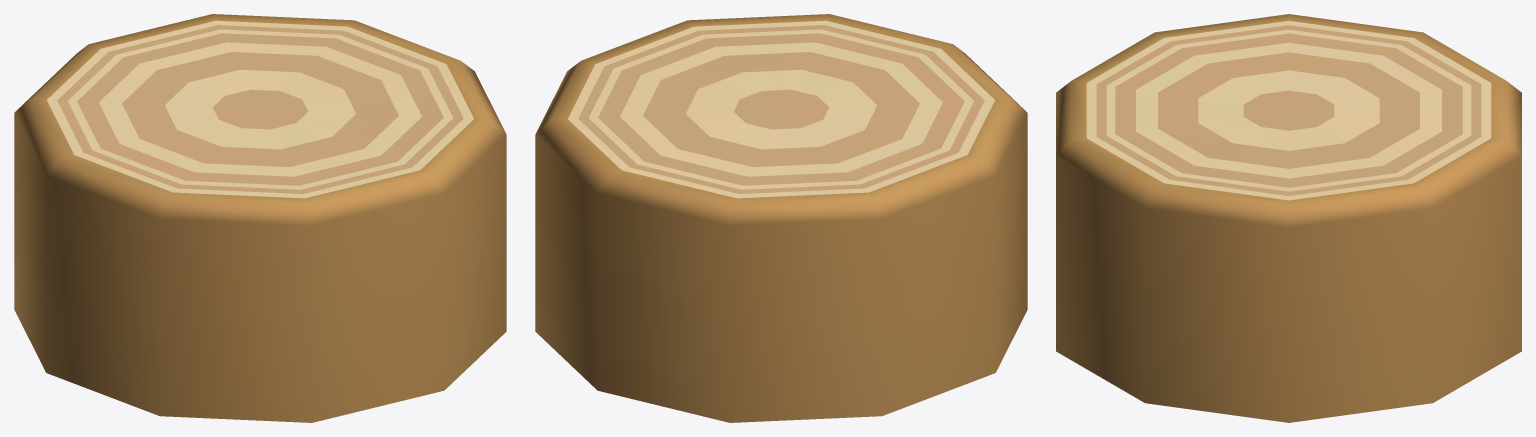
File: Stump.fbx
The picture shows the model from 3 angles, left to right: view 1: azimuth 30°, elevation 25°; view 2: azimuth 150°, elevation 25°; view 3: azimuth 270°, elevation 25°; orthographic projection.
Parts seen in each view (by area): view 1: pCylinder29; view 2: pCylinder29; view 3: pCylinder29.
Boxes of the visible parts, left/top/right/bottom form: pCylinder29: left=14, top=14, right=506, bottom=422; pCylinder29: left=535, top=14, right=1027, bottom=422; pCylinder29: left=1056, top=14, right=1521, bottom=422.
Bounding box in the file's own units: 99.19 × 46.68 × 94.33.
